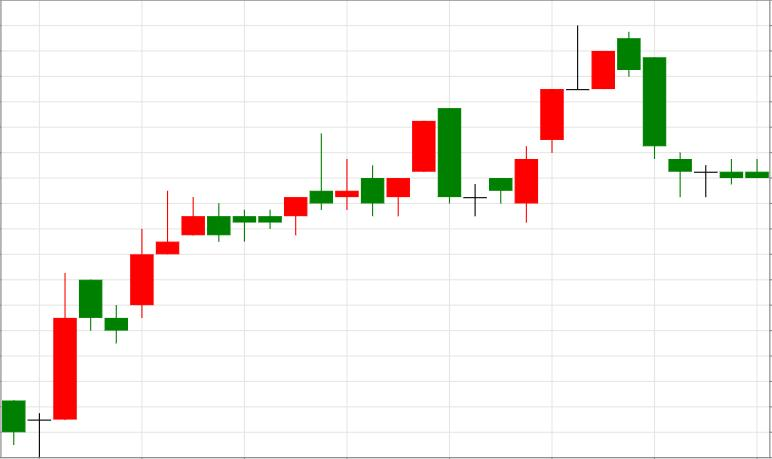bearish_engulfing_fall: (131, 109, 460, 318)
